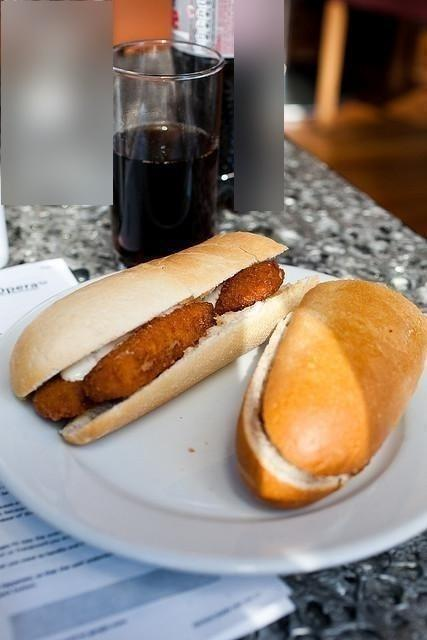glass-normal: (97, 34, 223, 265)
